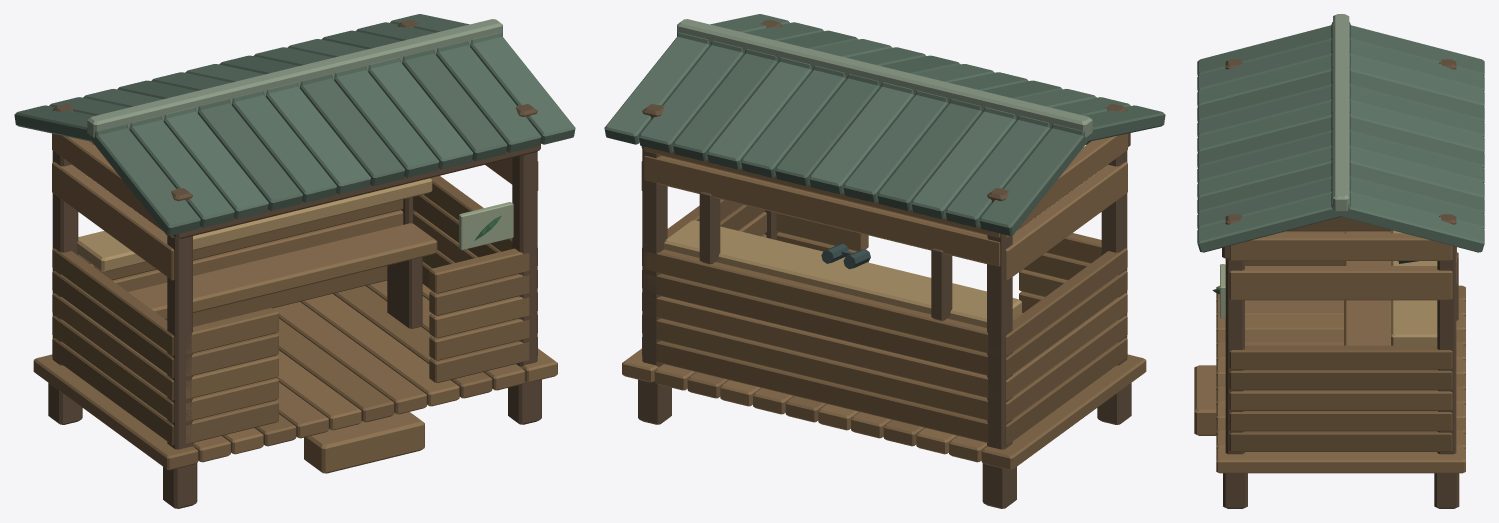
Rendered from bird_hide.glb.
The picture shows the model from 3 angles, left to right: view 1: azimuth 30°, elevation 25°; view 2: azimuth 150°, elevation 25°; view 3: azimuth 270°, elevation 25°; orthographic projection. The views are drawn at different scales.
Parts seen in each view (by area): view 1: geometry; view 2: geometry; view 3: geometry.
Boxes of the visible parts, box(x1,y1,x2,y2) form: geometry: box(14, 14, 575, 508); geometry: box(604, 14, 1165, 508); geometry: box(1194, 14, 1484, 508).
Size of the model in its own units: 2.97 by 2.42 by 1.98.
